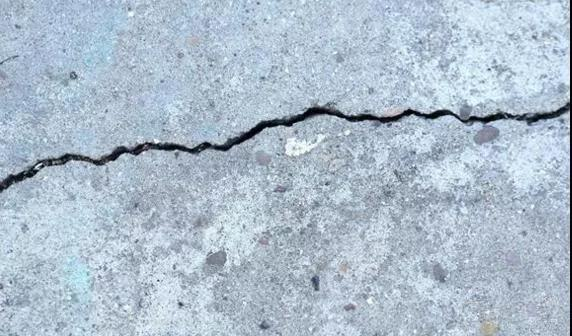Crack: (1, 100, 572, 194)
